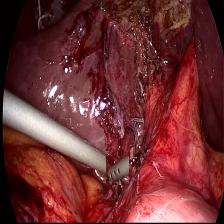Irrigator: (106, 156, 129, 185)
Specimen Bag: (32, 0, 70, 34)
